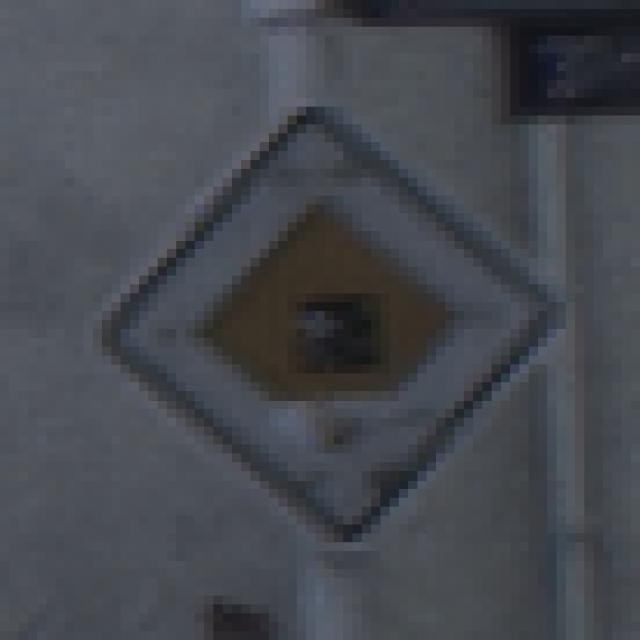Main Road: (66, 63, 585, 588)
